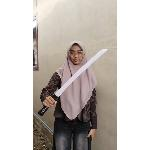Pedang: (38, 46, 110, 116)
